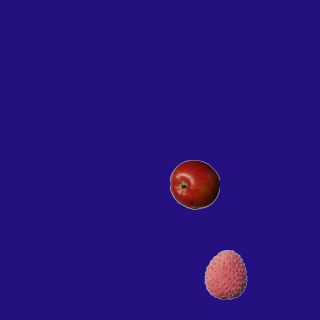Apple Braeburn: (169, 159, 219, 209)
Lychee: (200, 249, 250, 299)
